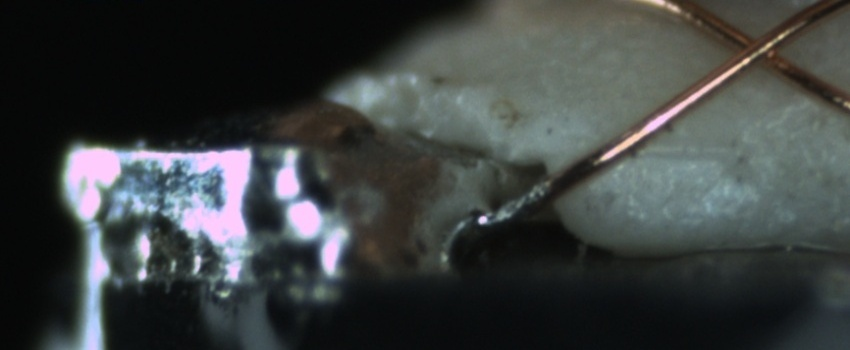CL: (716, 16, 799, 80)
DL: (625, 130, 740, 182)
TS: (478, 179, 553, 231)
